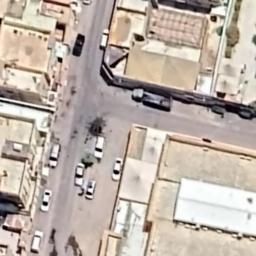sedan: (72, 32, 86, 58), (73, 162, 86, 188), (38, 188, 52, 212), (112, 156, 124, 182), (84, 178, 96, 201)
truck: (131, 87, 172, 113)
van: (30, 230, 44, 254), (48, 144, 61, 168), (94, 135, 106, 159), (100, 28, 110, 49)
